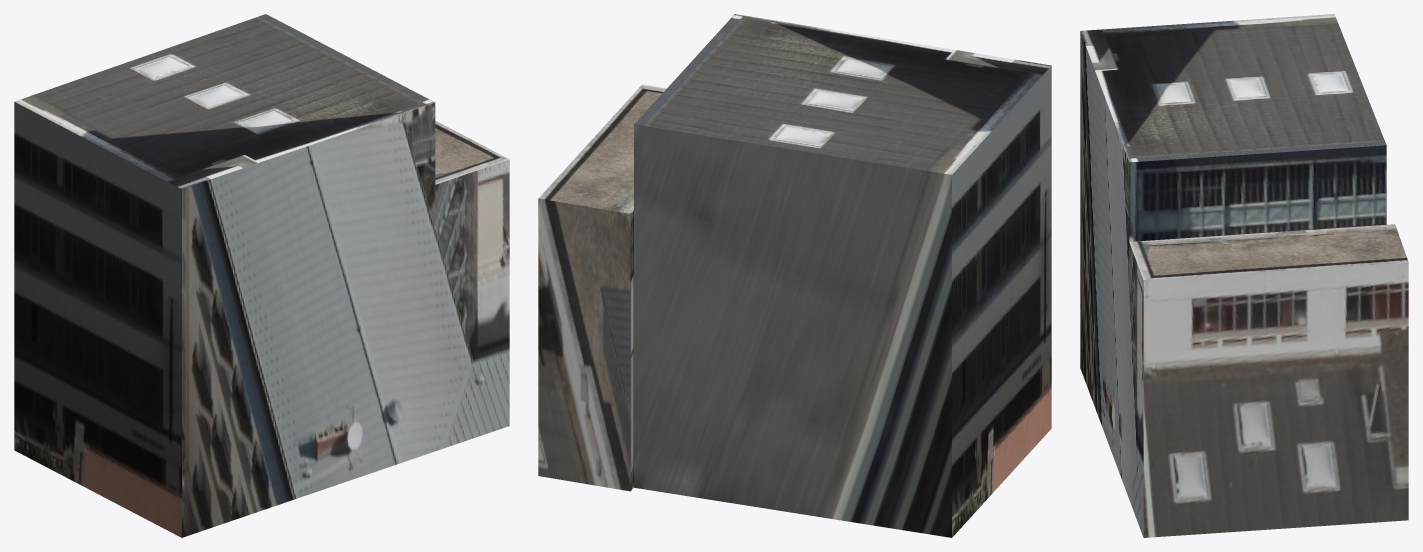
The picture shows the model from 3 angles, left to right: view 1: azimuth 30°, elevation 25°; view 2: azimuth 150°, elevation 25°; view 3: azimuth 270°, elevation 25°; orthographic projection. The views are drawn at different scales.
Visible parts, largest first — view 1: Z_UP; view 2: Z_UP; view 3: Z_UP.
Part boxes in pixels (x1,y1,x2,y2): Z_UP: (14,14,509,537); Z_UP: (538,14,1051,537); Z_UP: (1080,14,1408,537).
Size of the model in its own units: 22.45 by 18.87 by 16.67.
Materials: 2 (1 with a texture image).
